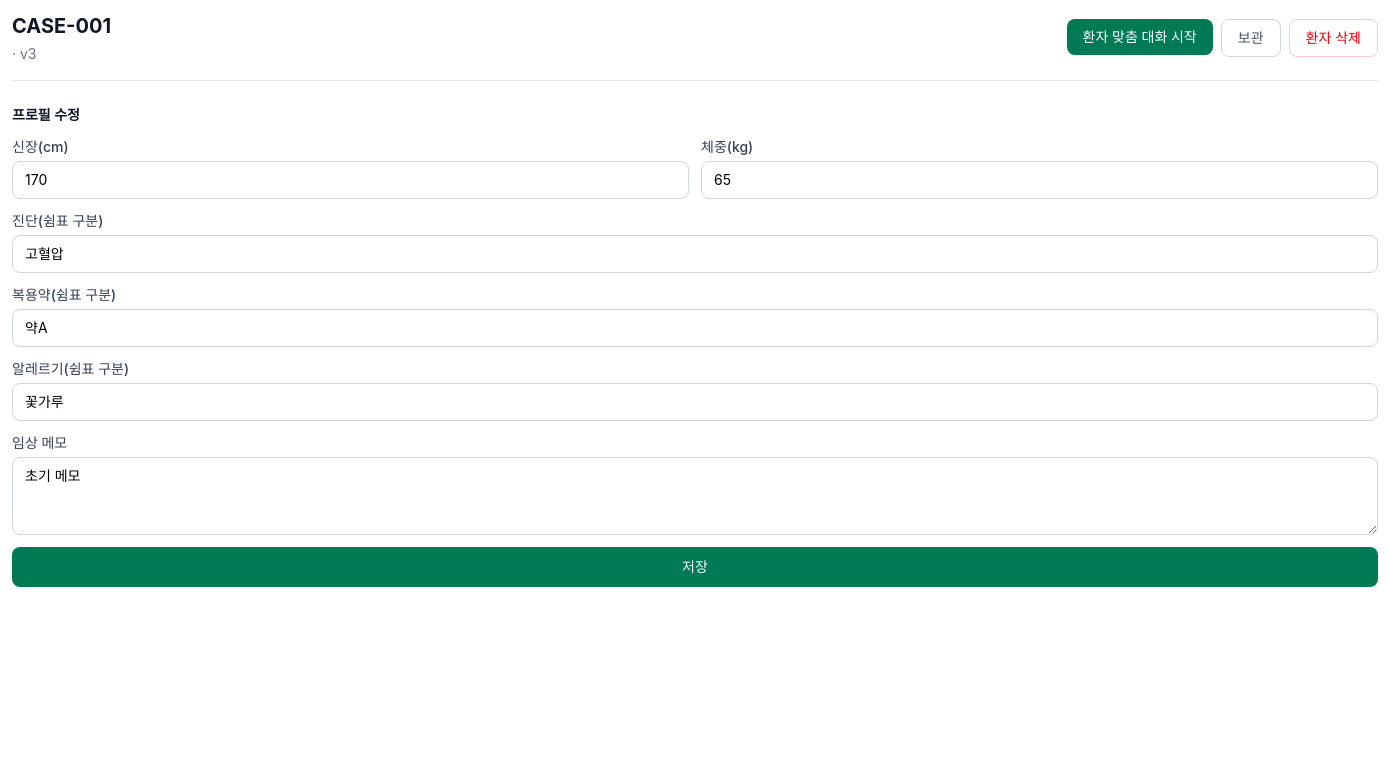
환자 상세 삭제 › 취소하면 삭제하지 않고 상세로 돌아간다
Click the button "환자 삭제". click: (1333,38)
box: x1=1288 y1=19 x2=1378 y2=57
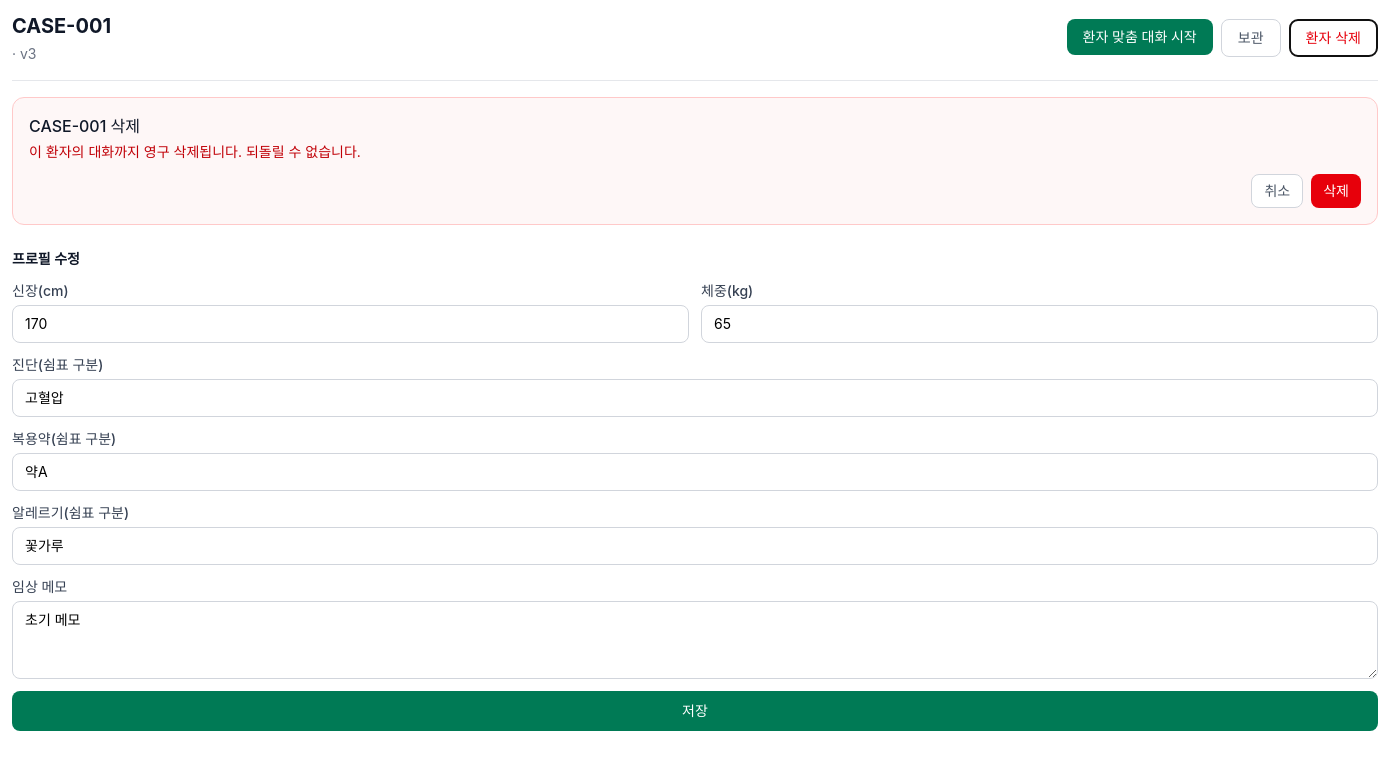
Click the button "취소". click: (1277,191)
box: x1=1252 y1=174 x2=1303 y2=208
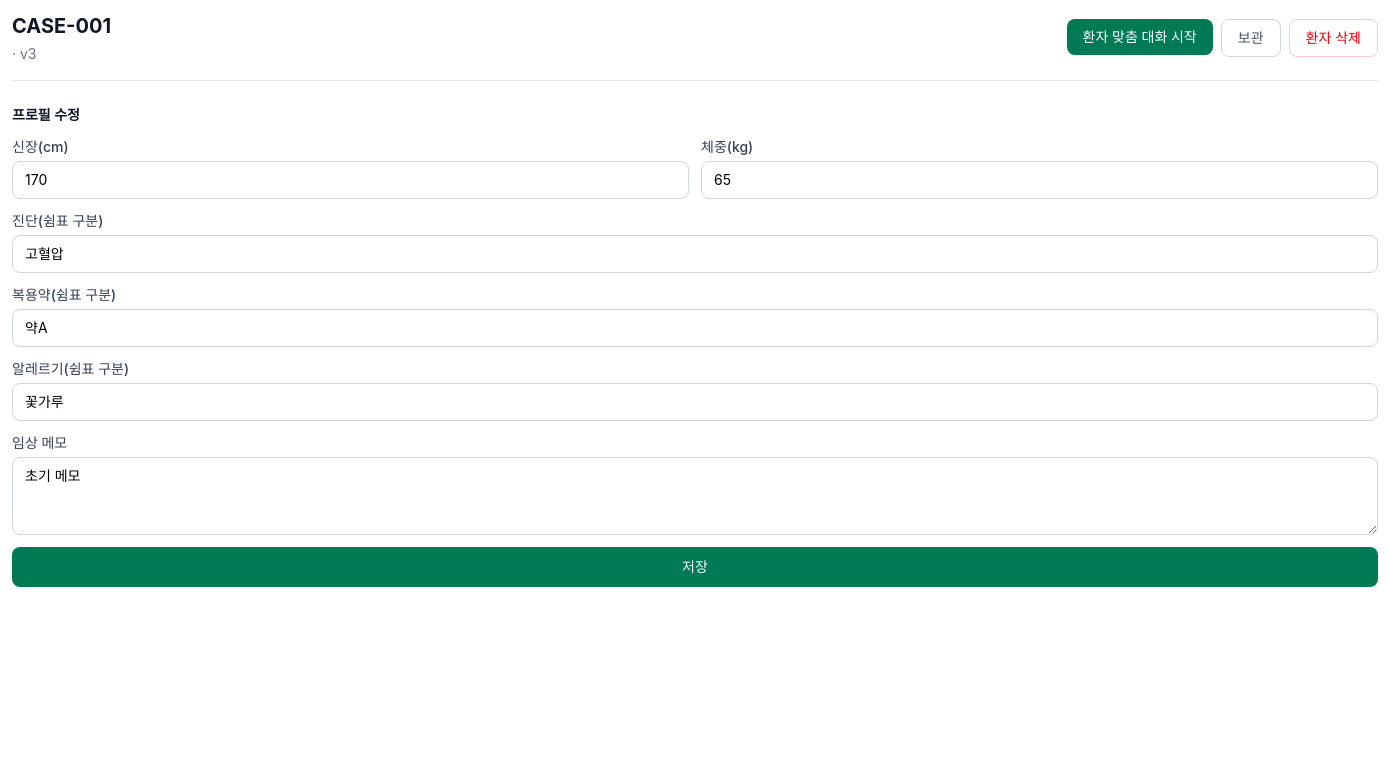
Expected: the button "환자 삭제" is shown, x1=1288 y1=19 x2=1378 y2=57
Expected: the text "이 환자의 대화까지 영구 삭제됩니다. 되돌릴 수 없습니다." is gone
